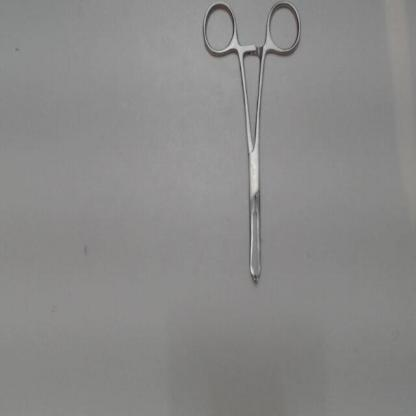Allis Tissue Forceps: (196, 1, 307, 296)
